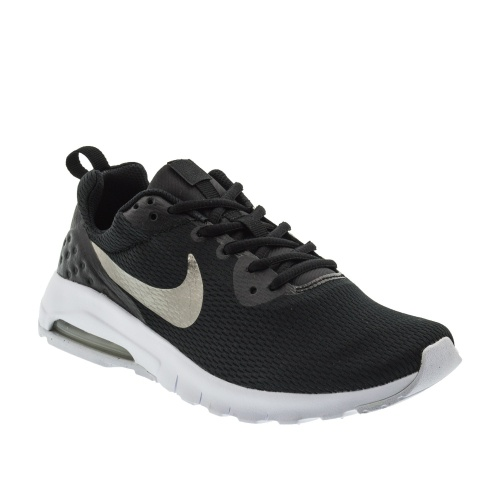nike: (84, 240, 205, 332)
